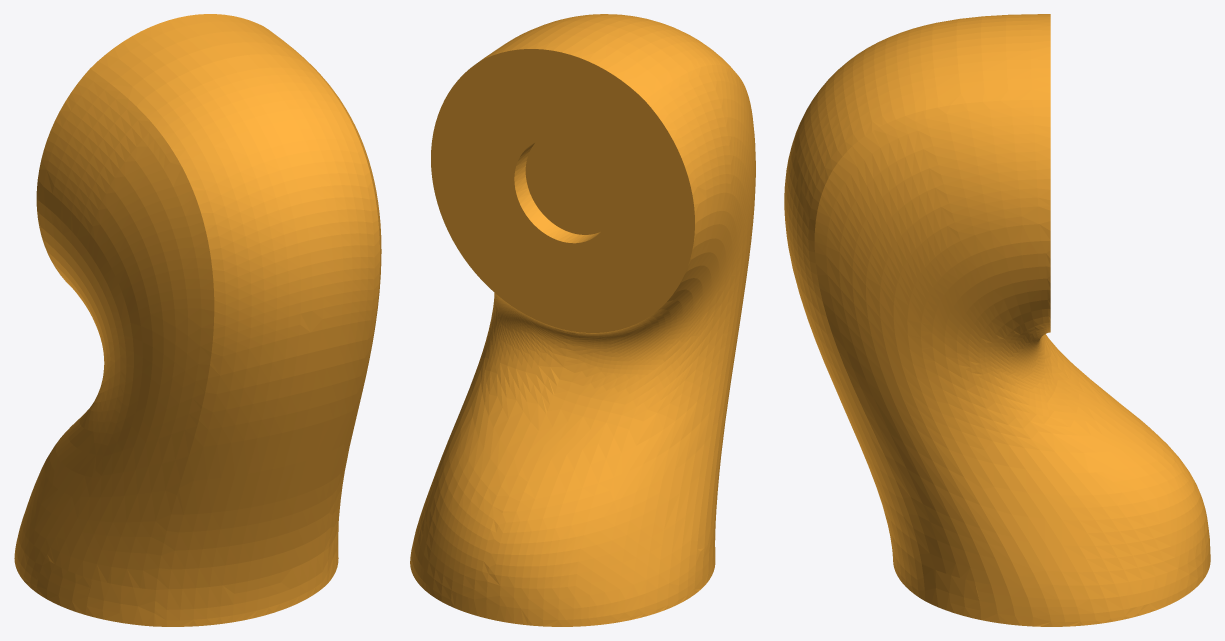
File: link_1_bright.dae
3 views of the same model, side by side, from view 1: azimuth 30°, elevation 25°; view 2: azimuth 150°, elevation 25°; view 3: azimuth 270°, elevation 25° (orthographic). The views are drawn at different scales.
Parts seen in each view (by area): view 1: Link 1; view 2: Link 1; view 3: Link 1.
Boxes of the visible parts, left/top/right/bottom form: Link 1: left=14, top=14, right=381, bottom=626; Link 1: left=410, top=14, right=755, bottom=626; Link 1: left=784, top=14, right=1210, bottom=626.
Size of the model in its own units: 0.136 by 0.1826 by 0.261.
